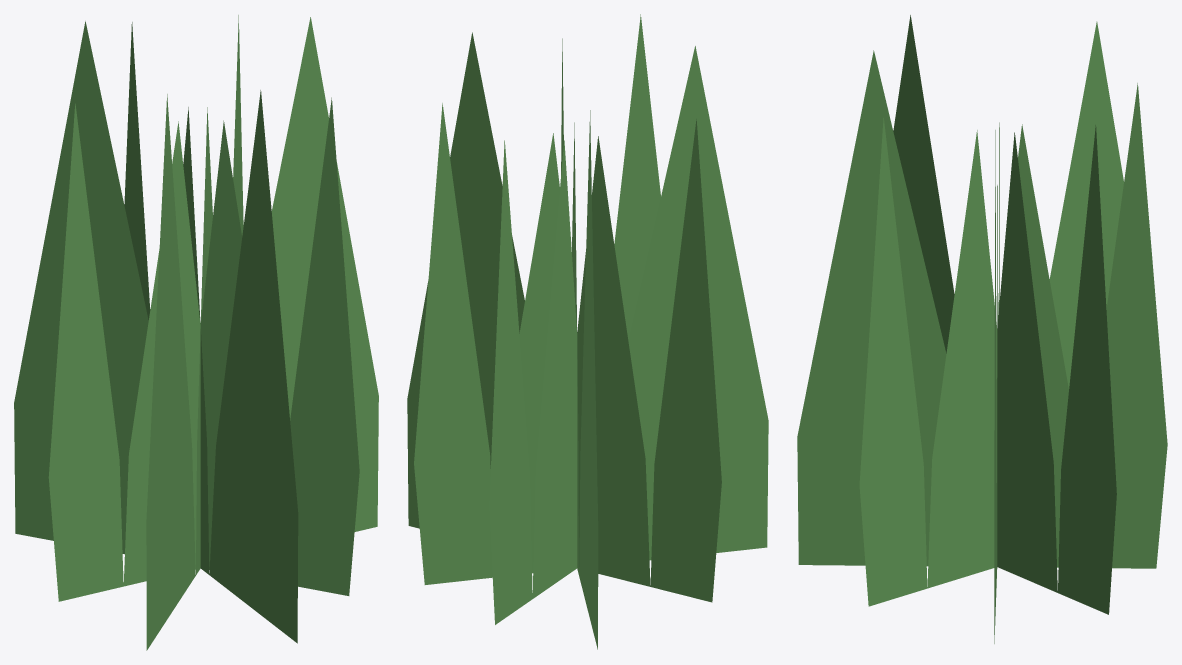
File: SM_Grass.fbx
The picture shows the model from 3 angles, left to right: view 1: azimuth 30°, elevation 25°; view 2: azimuth 150°, elevation 25°; view 3: azimuth 270°, elevation 25°; orthographic projection. The views are drawn at different scales.
Parts seen in each view (by area): view 1: SM_Herbe; view 2: SM_Herbe; view 3: SM_Herbe.
Part boxes in pixels (x1=…): SM_Herbe: x1=14, y1=15, x2=378, y2=650; SM_Herbe: x1=407, y1=14, x2=768, y2=649; SM_Herbe: x1=797, y1=15, x2=1167, y2=643.
Bounding box in the file's own units: 25.74 × 39.56 × 25.73.
